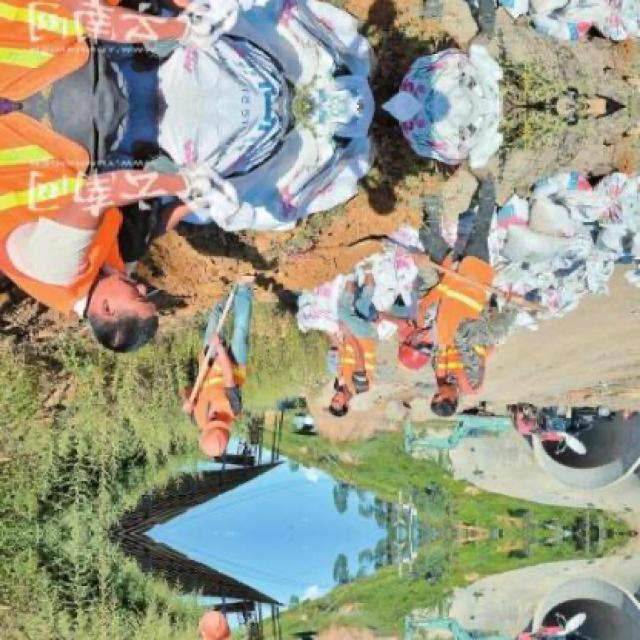con casco: (178, 398, 266, 466), (376, 311, 443, 379)
sin casco: (58, 244, 189, 356), (388, 380, 466, 422), (305, 377, 355, 428)
